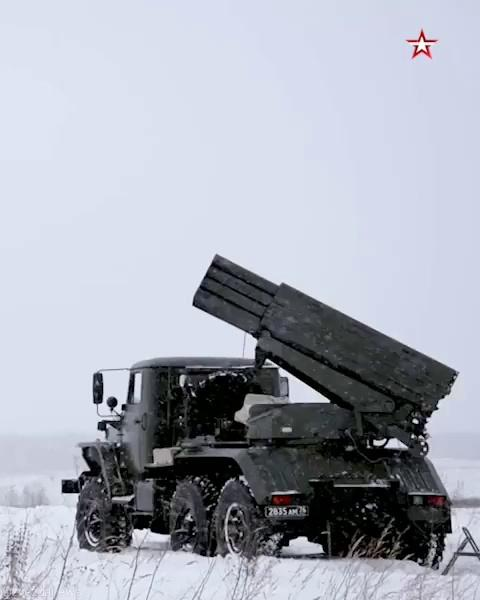MIL_SAM_TEL: (87, 259, 454, 562)
